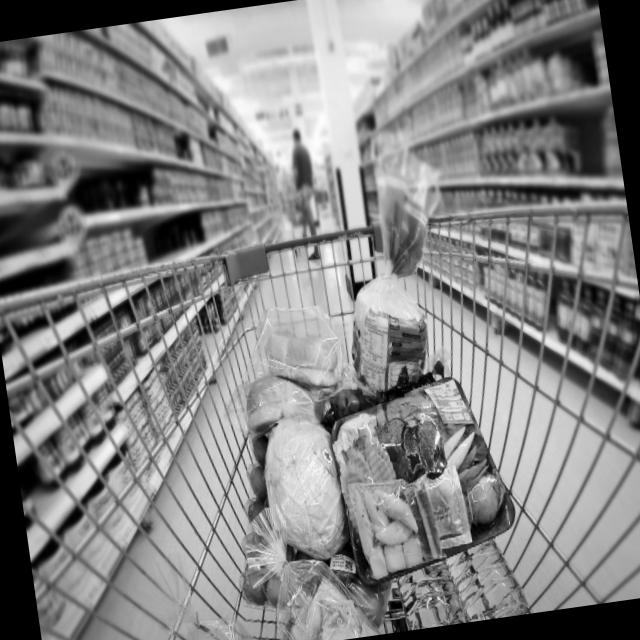apple: (289, 546, 388, 628)
bap cai: (257, 408, 358, 568)
bread: (328, 137, 459, 402), (277, 554, 381, 640)
egg: (224, 432, 304, 612)
